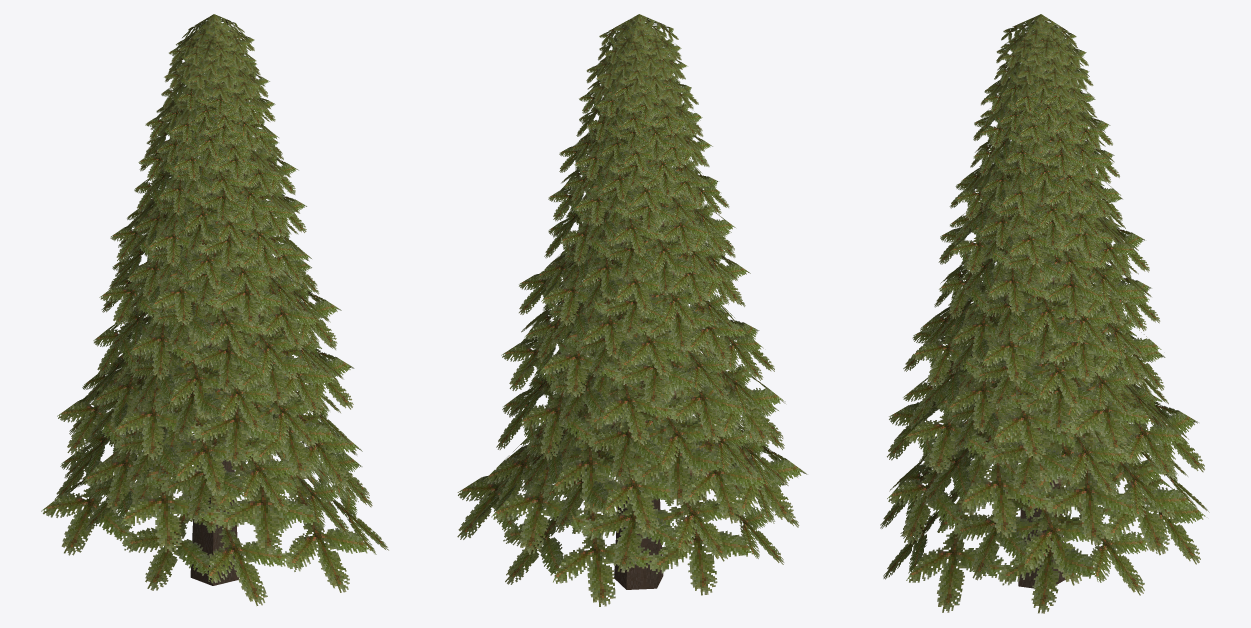
File: tree.glb
3 renders of one model, left to right at view 1: azimuth 30°, elevation 25°; view 2: azimuth 150°, elevation 25°; view 3: azimuth 270°, elevation 25°, orthographic.
Visible parts, largest first — view 1: tree; view 2: tree; view 3: tree.
Boxes of the visible parts, <box> form: tree: <box>41,14,388,605</box>; tree: <box>457,14,807,606</box>; tree: <box>880,14,1209,613</box>.
Size of the model in its own units: 7.67 by 12.03 by 7.19.
Materials: 2 (2 with a texture image).
